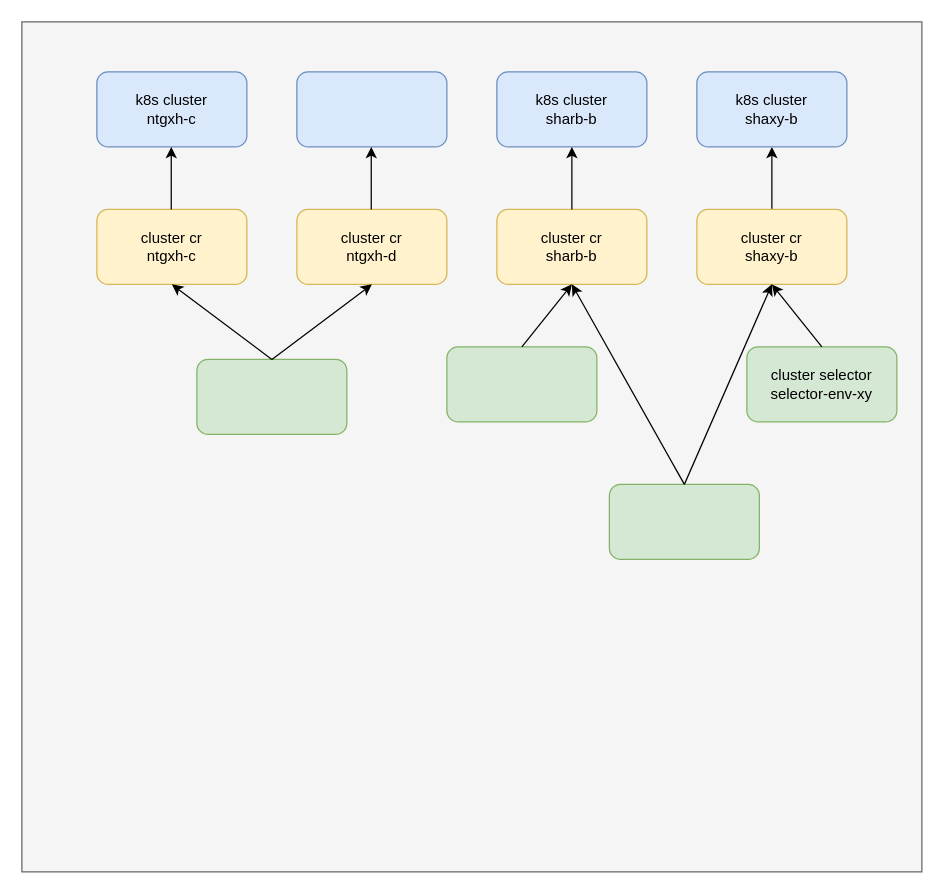
Some shapes in this 944 by 894 pixel diagram are drawn without their labels. Here are the shapes that lost their labels. From the top down, the centre of each, then its label:
At point (371, 109): "k8s cluster cluster-d".
At point (271, 396): "cluster selector selector-env-fat".
At point (521, 384): "cluster selector selector-env-rb".
At point (683, 521): "cluster selector selector-env-pro".
